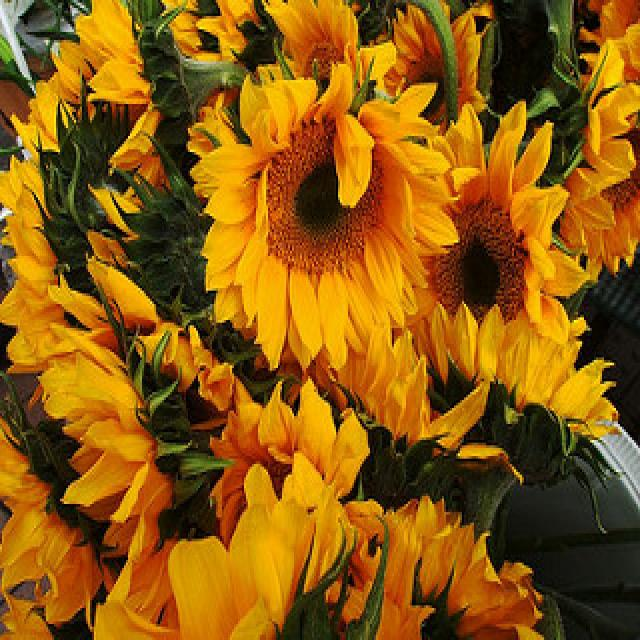sunflower: (199, 56, 461, 365), (381, 94, 595, 382), (35, 332, 171, 559)
